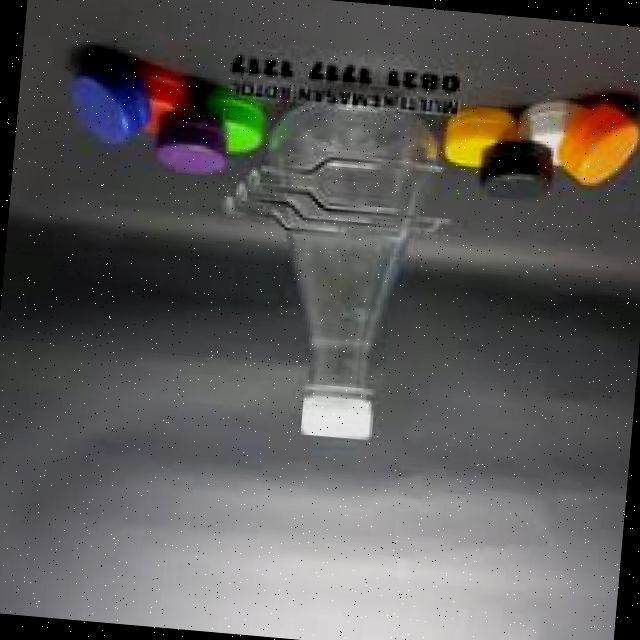bottle: (227, 60, 441, 469)
cap: (296, 384, 377, 448)
